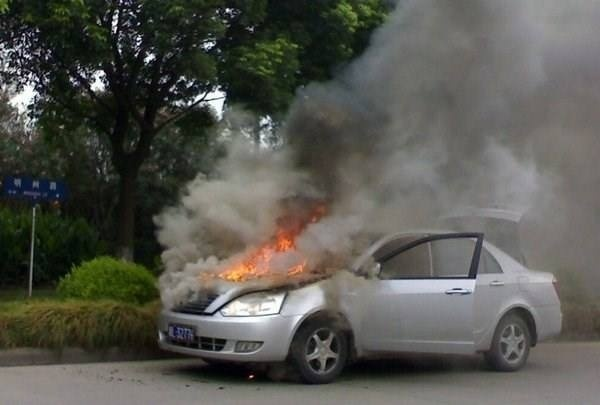fire: (204, 217, 321, 286)
